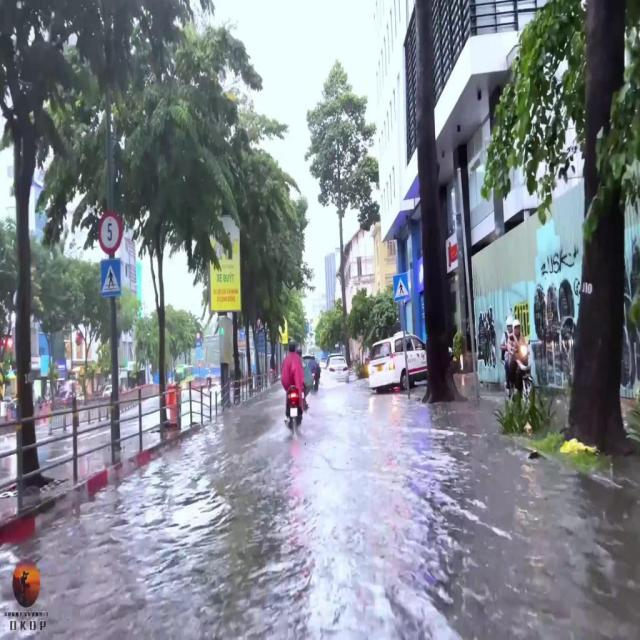duong_nguoi_di_bo_sang_ngang: (100, 258, 122, 297), (394, 270, 410, 302)
khac: (98, 209, 124, 257)
